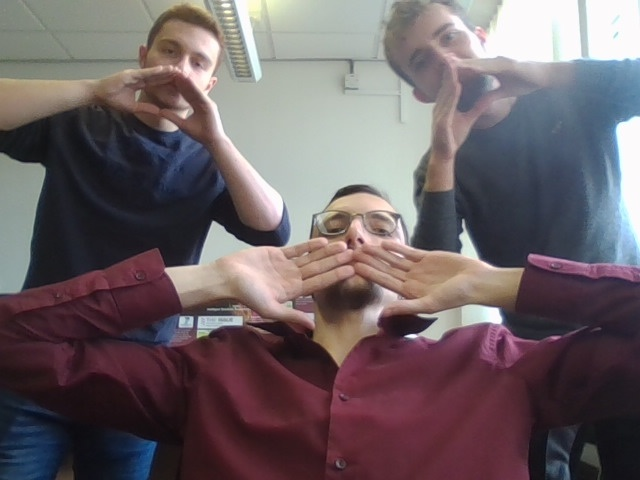thankyou: (207, 235, 477, 334), (94, 65, 228, 145), (423, 55, 530, 151)
